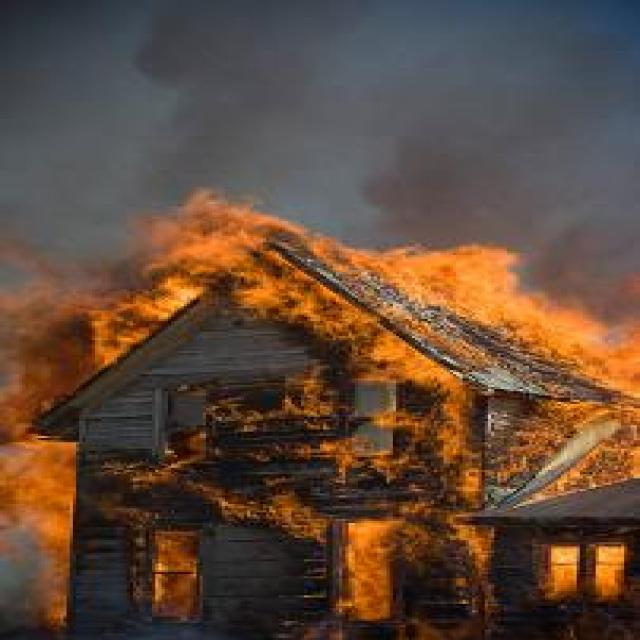Fire_Dangerous: (1, 210, 627, 606)
